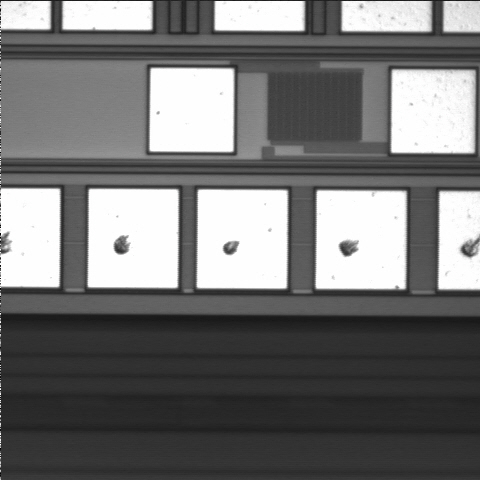pad: (88, 189, 178, 288), (197, 190, 287, 288), (316, 191, 406, 289), (150, 68, 234, 152), (391, 70, 474, 153)
